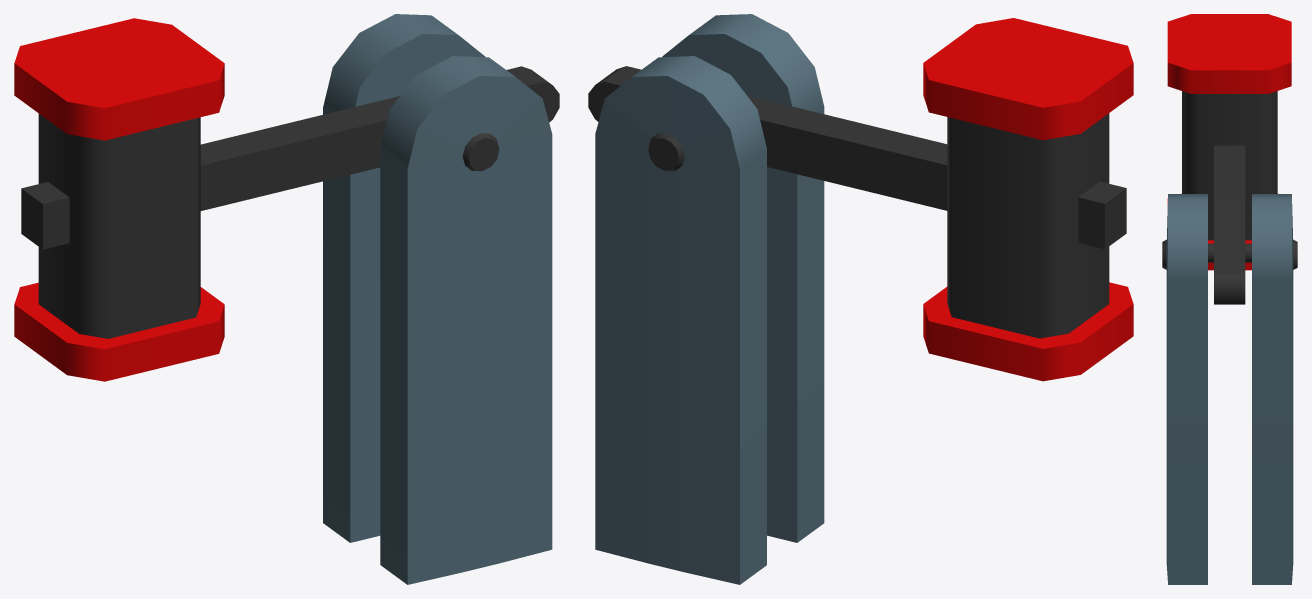
Rendered from trap_bua.fbx.
The picture shows the model from 3 angles, left to right: view 1: azimuth 30°, elevation 25°; view 2: azimuth 150°, elevation 25°; view 3: azimuth 270°, elevation 25°; orthographic projection. The views are drawn at different scales.
Visible parts, largest first — view 1: chan, xoay3, xoay; view 2: chan, xoay3, xoay; view 3: chan, xoay3, xoay.
Boxes of the visible parts, left/top/right/bottom form: chan: left=323, top=14, right=552, bottom=584; xoay3: left=14, top=18, right=224, bottom=381; xoay: left=21, top=66, right=559, bottom=249; chan: left=595, top=14, right=824, bottom=584; xoay3: left=923, top=18, right=1133, bottom=381; xoay: left=588, top=66, right=1126, bottom=249; chan: left=1162, top=194, right=1297, bottom=584; xoay3: left=1167, top=14, right=1291, bottom=270; xoay: left=1214, top=145, right=1245, bottom=304.
Size of the model in its own units: 481 by 490 by 149.
